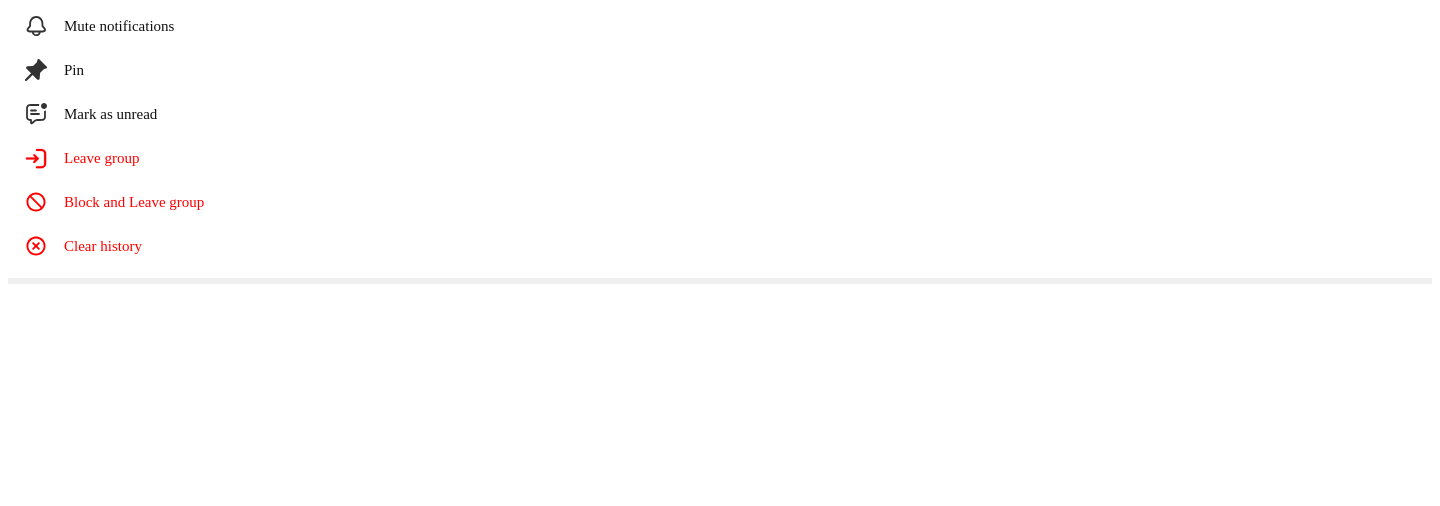
it: Actions › Action dispatches › clicking Leave group opens confirm popup
Click Leave group (not "Block and Leave group")
Click the list item "Leave group".
click(82, 158)  # box [24,146,139,170]
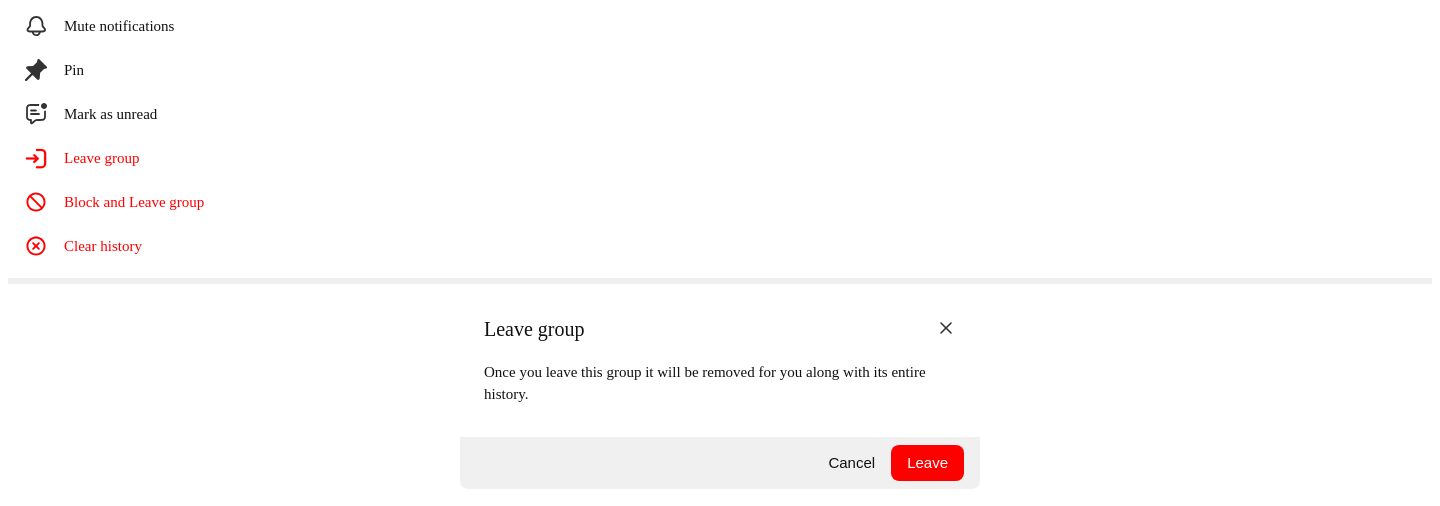
Check: the button "Leave" is shown, box [891,444,964,480]
